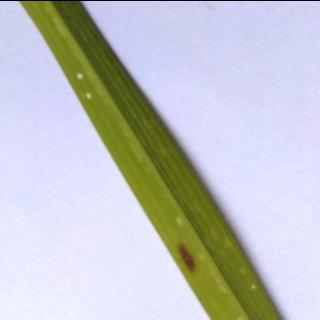bercak-Cokelat: (166, 235, 204, 278)
